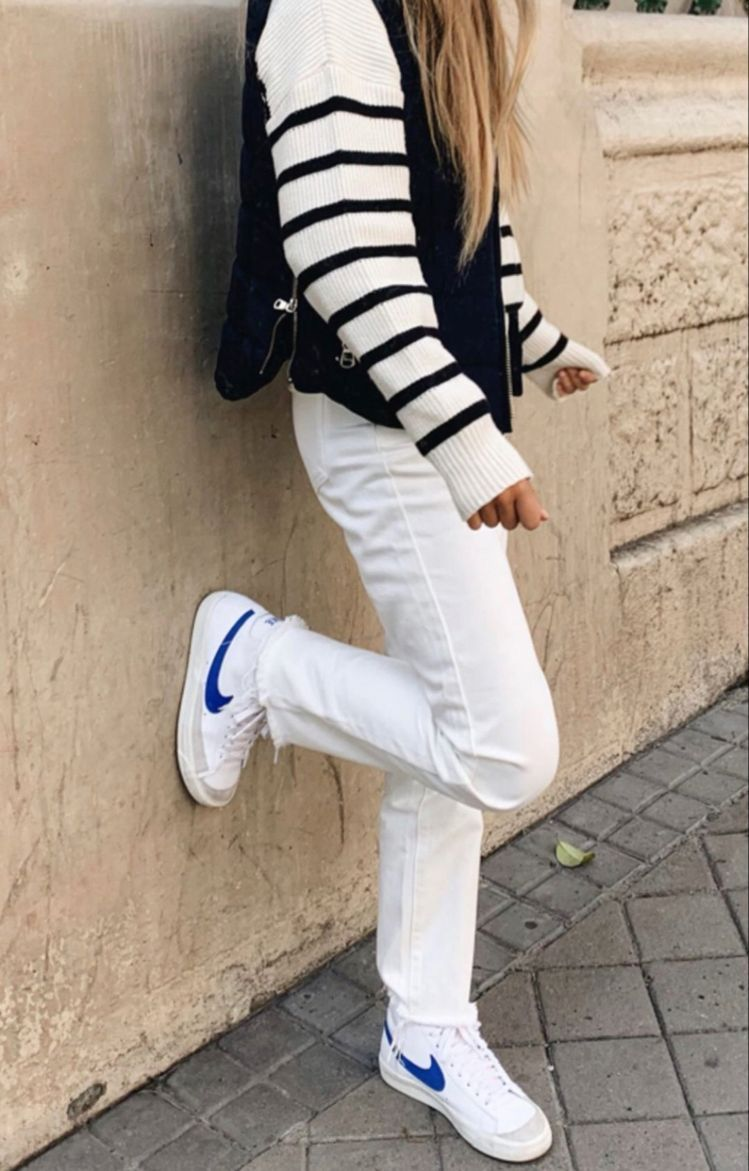nike_blazer_mid77_darkblue: (374, 1007, 558, 1163), (174, 583, 296, 804)
